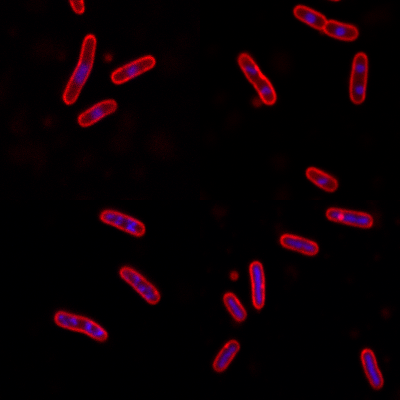CAM: (292, 4, 359, 42), (236, 52, 277, 108), (348, 52, 368, 105), (303, 164, 339, 193)
Control: (53, 311, 108, 343), (117, 267, 160, 306), (97, 207, 147, 238)
Nalidixate: (60, 33, 97, 106), (109, 55, 155, 86), (76, 99, 117, 128)
Rifampicin: (323, 204, 374, 229), (359, 348, 385, 390), (210, 339, 241, 373), (280, 232, 320, 258), (247, 259, 266, 309), (219, 292, 248, 323)
Vesicle: (227, 267, 240, 282), (101, 51, 115, 64)
